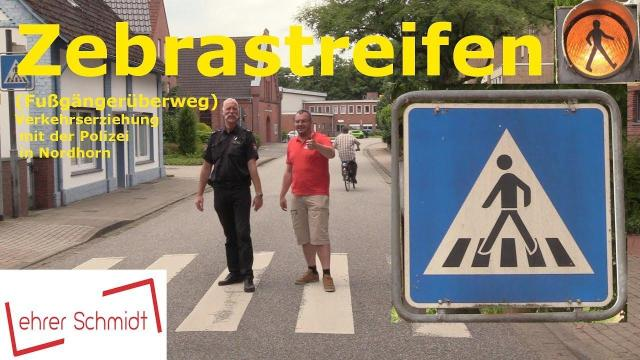crosswalk-sign: (396, 93, 623, 318)
